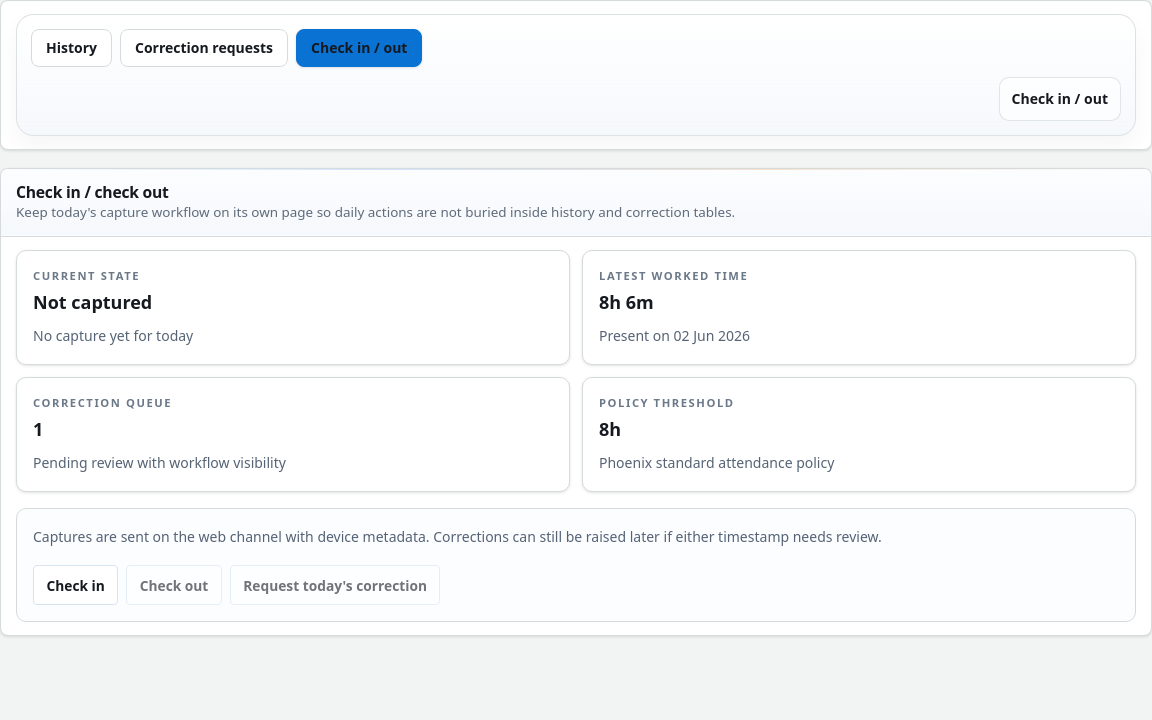
Scenario: AttendanceEmployeeWorkspace › supports employee check-in and check-out with clear capture feedback
The image size is (1152, 720).
Expected: the heading "Check in / check out" is shown, top-left (16, 181), bottom-right (169, 203)
Click the button "Check in". click: [76, 586]
box: top-left (33, 566), bottom-right (118, 606)
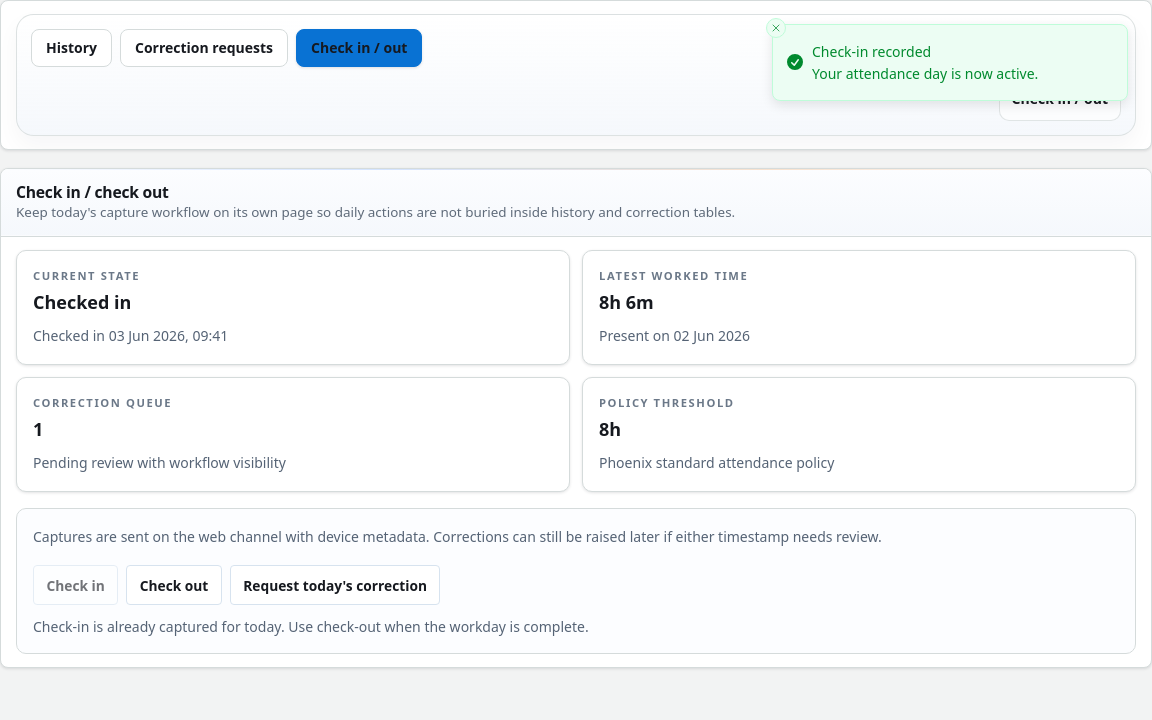
Expected: the text "Check-in recorded" is shown, top-left (812, 42), bottom-right (931, 61)
Expected: the text "Check-in is already captured for today" is shown, top-left (33, 618), bottom-right (589, 636)
Click the button "Check out". click: [174, 586]
box: top-left (126, 566), bottom-right (222, 606)
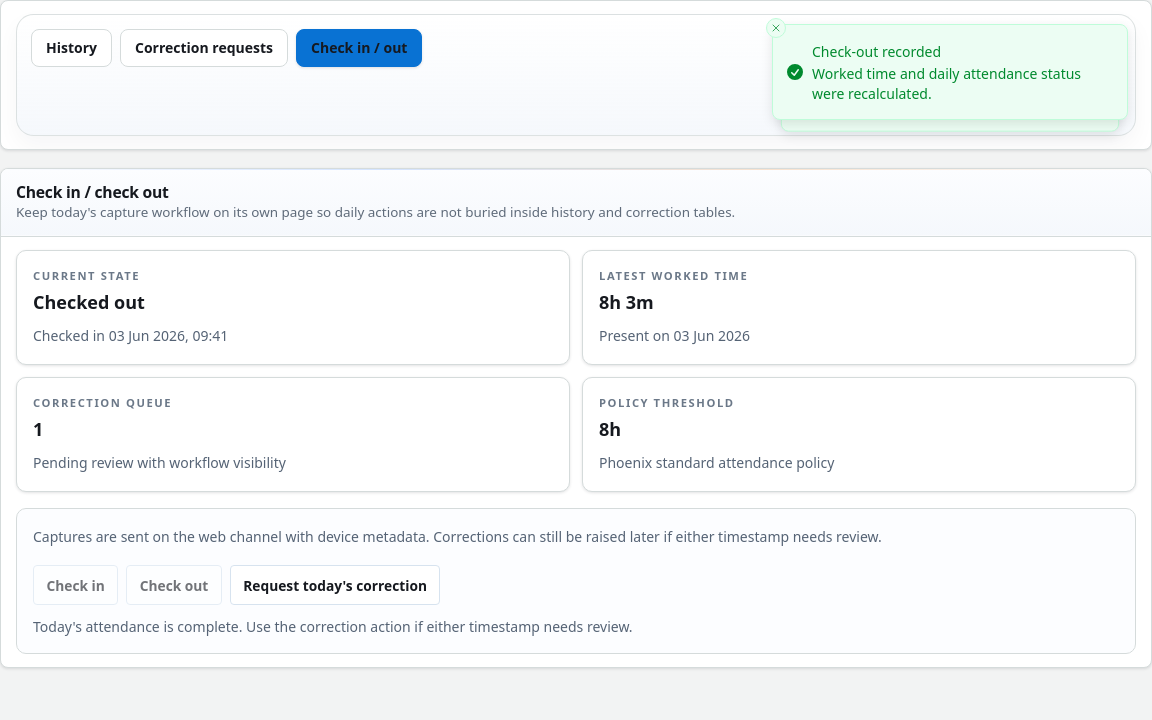
Expected: the text "Check-out recorded" is shown, top-left (812, 42), bottom-right (941, 61)
Expected: the text "Today's attendance is complete" is shown, top-left (33, 618), bottom-right (633, 636)
